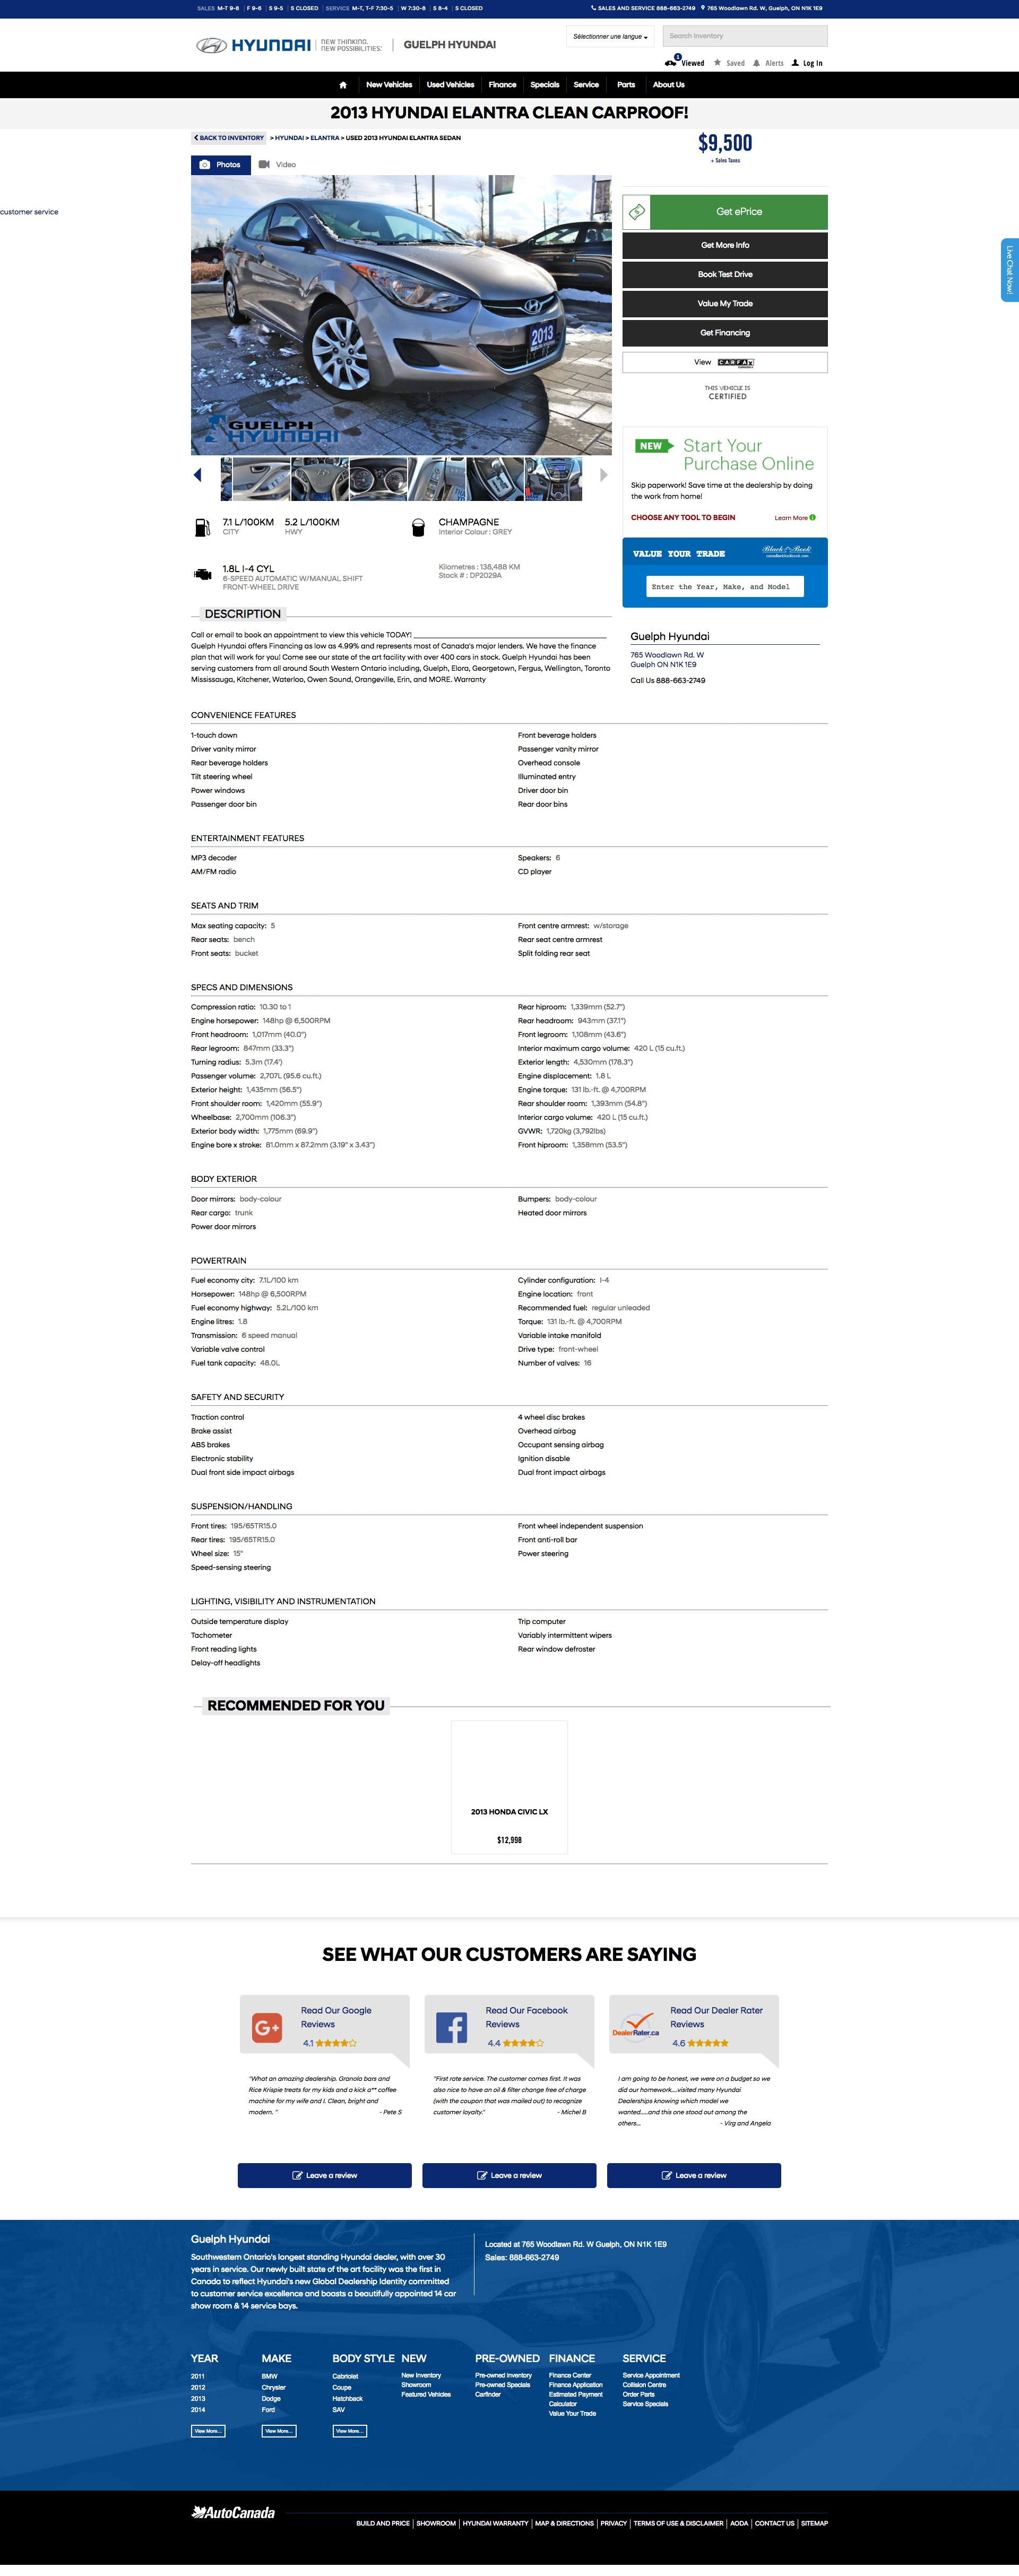car: (600, 468, 608, 483)
